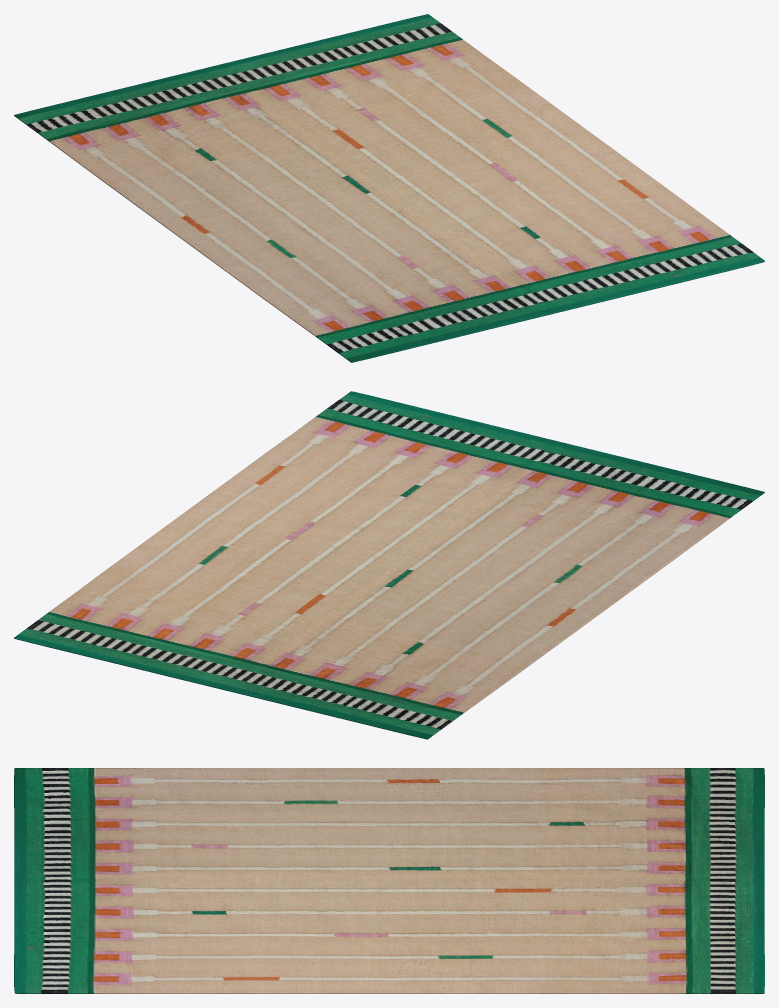
The model's file is 22 - MÄVINN Rug - beigegreen 170x240 cm.glb.
3 renders of one model, top to bottom at view 1: azimuth 30°, elevation 25°; view 2: azimuth 150°, elevation 25°; view 3: azimuth 270°, elevation 25°, orthographic. The views are drawn at different scales.
Visible parts, largest first — view 1: Rectangle007; view 2: Rectangle007; view 3: Rectangle007.
Part boxes in pixels (x1=…): Rectangle007: x1=14, y1=14, x2=764, y2=362; Rectangle007: x1=14, y1=391, x2=764, y2=739; Rectangle007: x1=14, y1=768, x2=764, y2=993.
Bounding box in the file's own units: 1.7 × 0.00569 × 2.4.
Materials: 2 (2 with a texture image).
